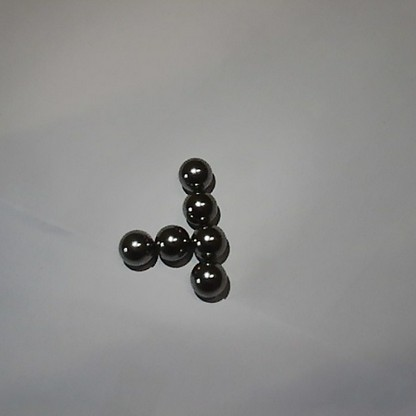ironball: (153, 221, 194, 269), (179, 189, 227, 226), (191, 259, 231, 303), (117, 229, 156, 272), (176, 155, 219, 193), (194, 221, 232, 260)
